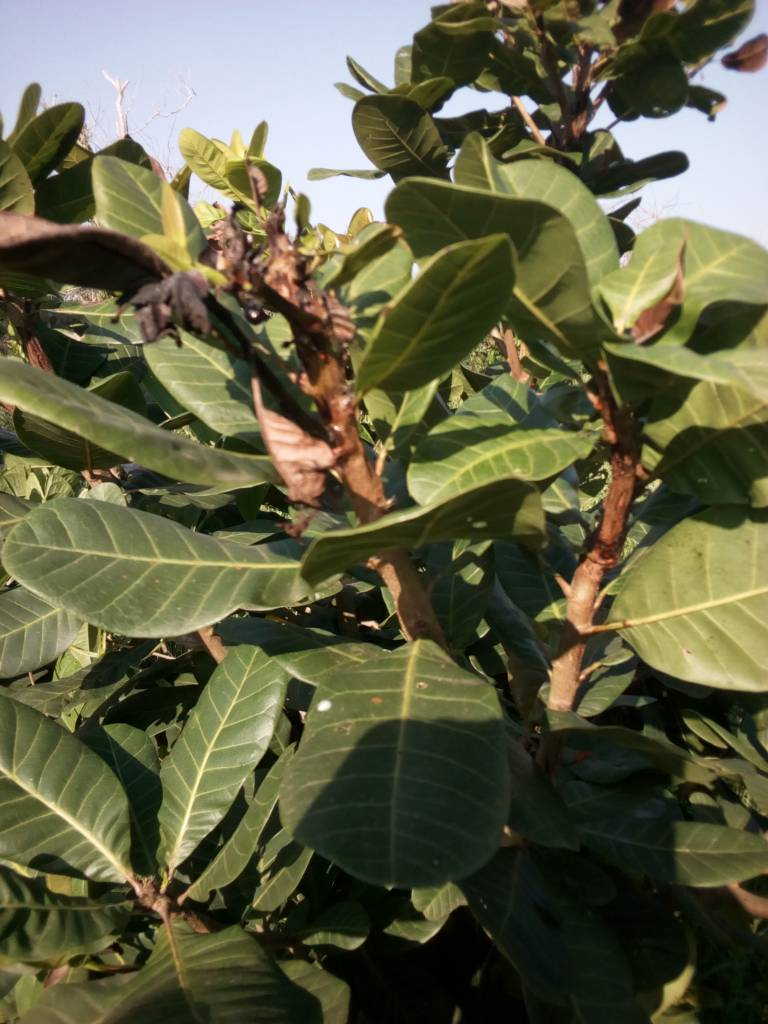Dessèchement des bourgeons: (1, 194, 338, 464), (221, 210, 350, 392)
